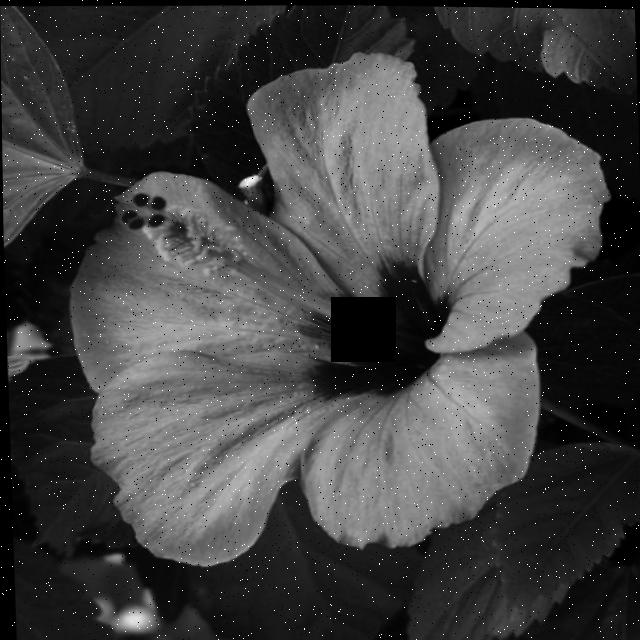hibiscus: (20, 0, 640, 583)
